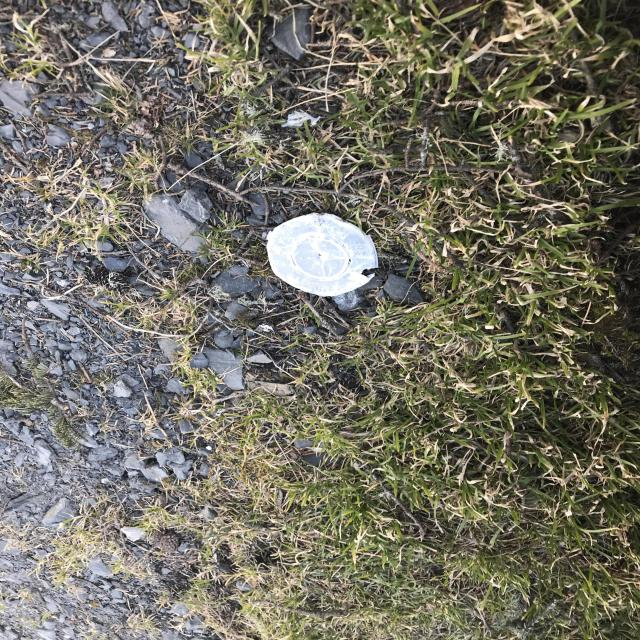less trash: (267, 212, 378, 296)
